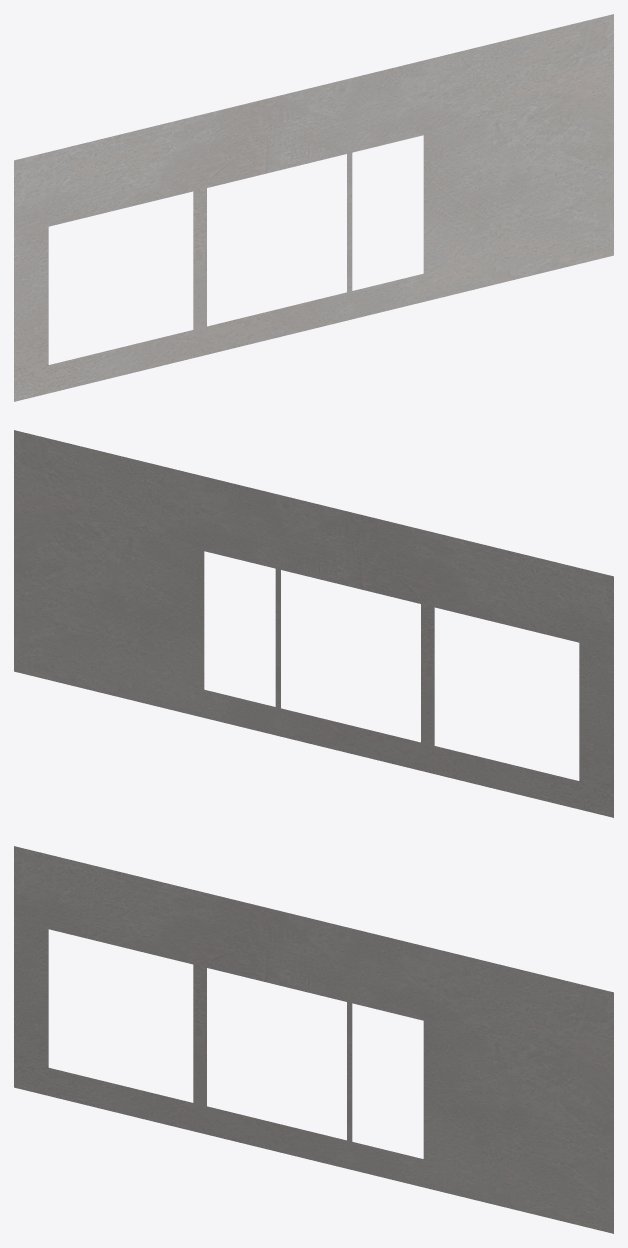
File: back_wall.glb
3 renders of one model, top to bottom at view 1: azimuth 30°, elevation 25°; view 2: azimuth 150°, elevation 25°; view 3: azimuth 330°, elevation 25°, orthographic.
Visible parts, largest first — view 1: Mid_Wall; view 2: Mid_Wall; view 3: Mid_Wall.
Part boxes in pixels (x1,y1,x2,y2): Mid_Wall: (14, 14, 613, 401); Mid_Wall: (14, 430, 613, 817); Mid_Wall: (14, 846, 613, 1233).
Bounding box in the file's own units: 7.89 × 3.04 × 8.34e-07.
Materials: 1 (1 with a texture image).
